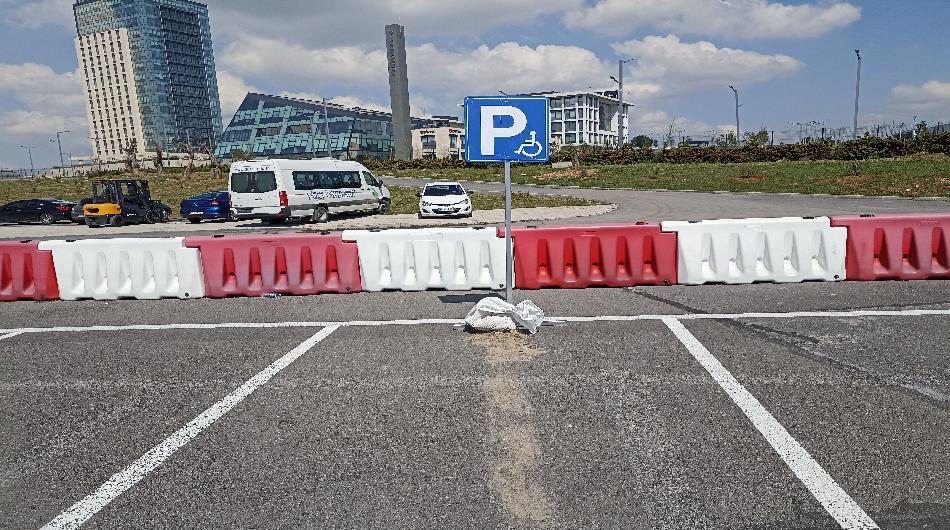engelli_park: (465, 92, 553, 164)
